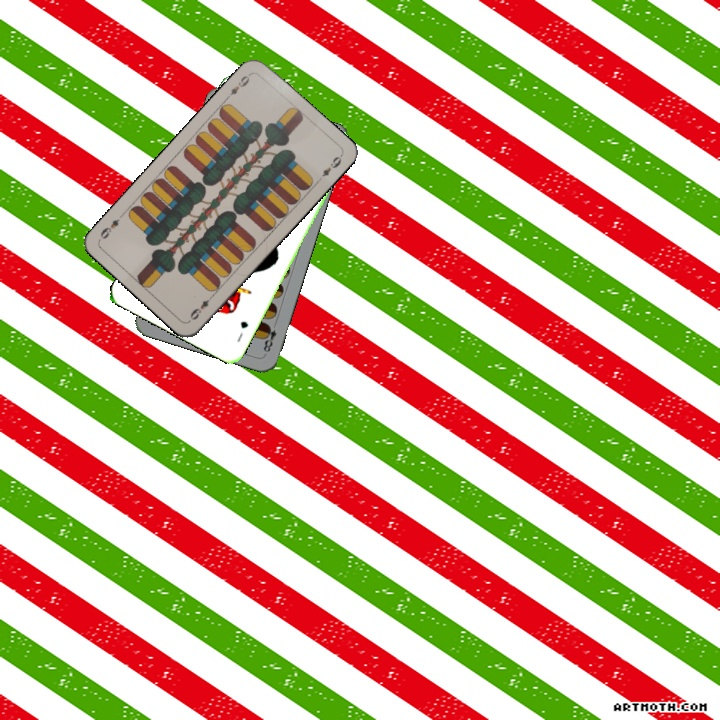E8: (259, 321, 279, 357)
E9: (222, 69, 254, 102), (185, 290, 216, 324)
GU: (233, 317, 251, 345)
